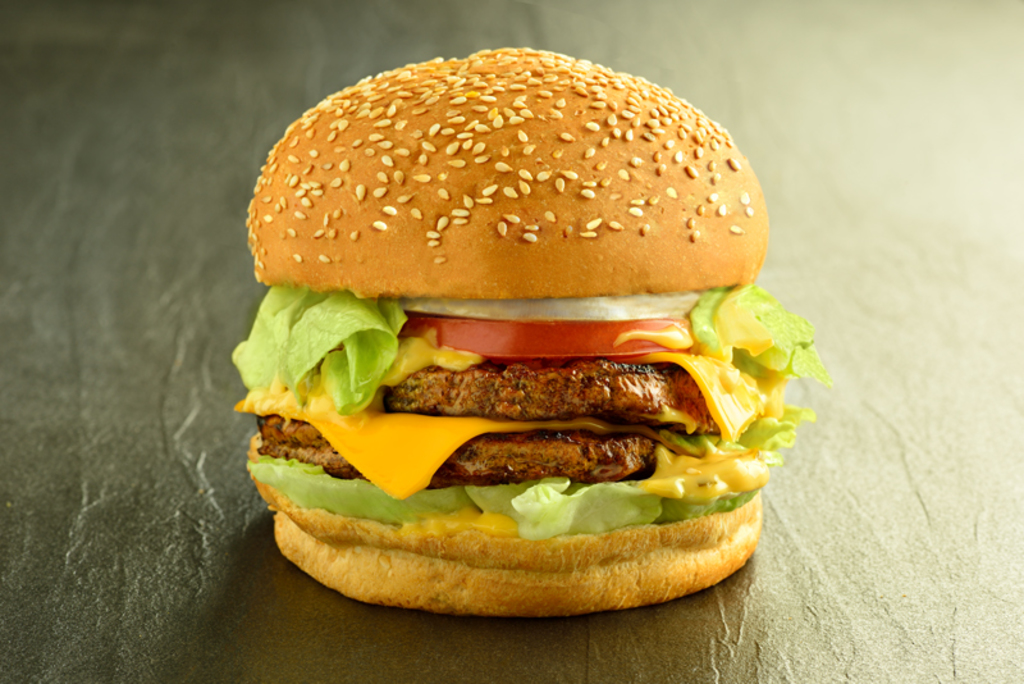Hamburger: (234, 43, 826, 610)
